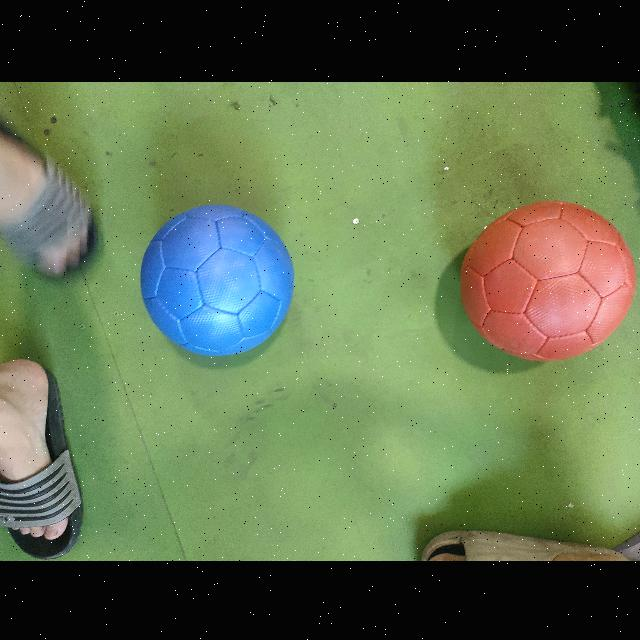B: (140, 207, 296, 356)
R: (458, 196, 634, 360)
